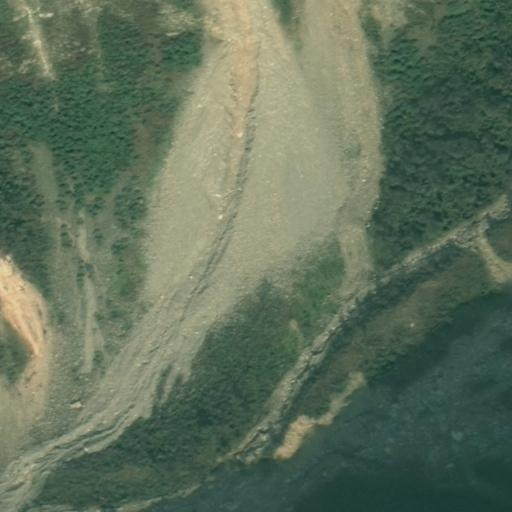landslide: (1, 4, 386, 511)
